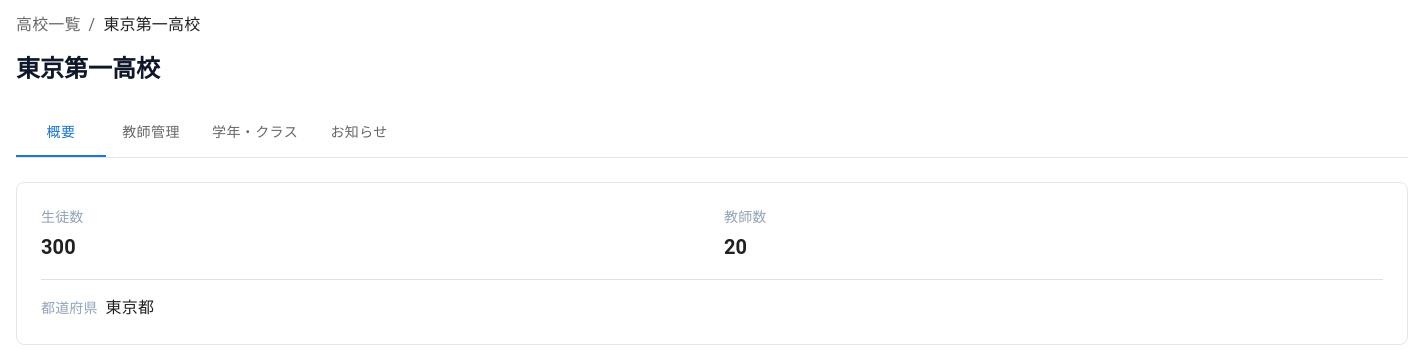
Test: SchoolDetailPresenter › 教師管理タブ › タブ切り替え後に「最初の教師を追加する」ボタンが表示される
The width and height of the screenshot is (1425, 362).
Click the tab "教師管理": (151,133) x1=106 y1=109 x2=196 y2=157
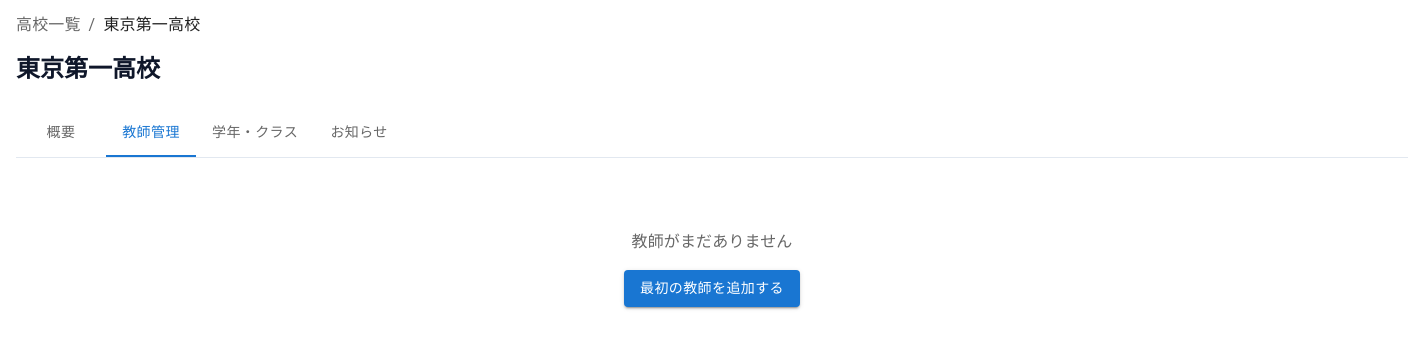
expect the button "最初の教師を追加する" is shown: met, box x1=624 y1=270 x2=800 y2=306
